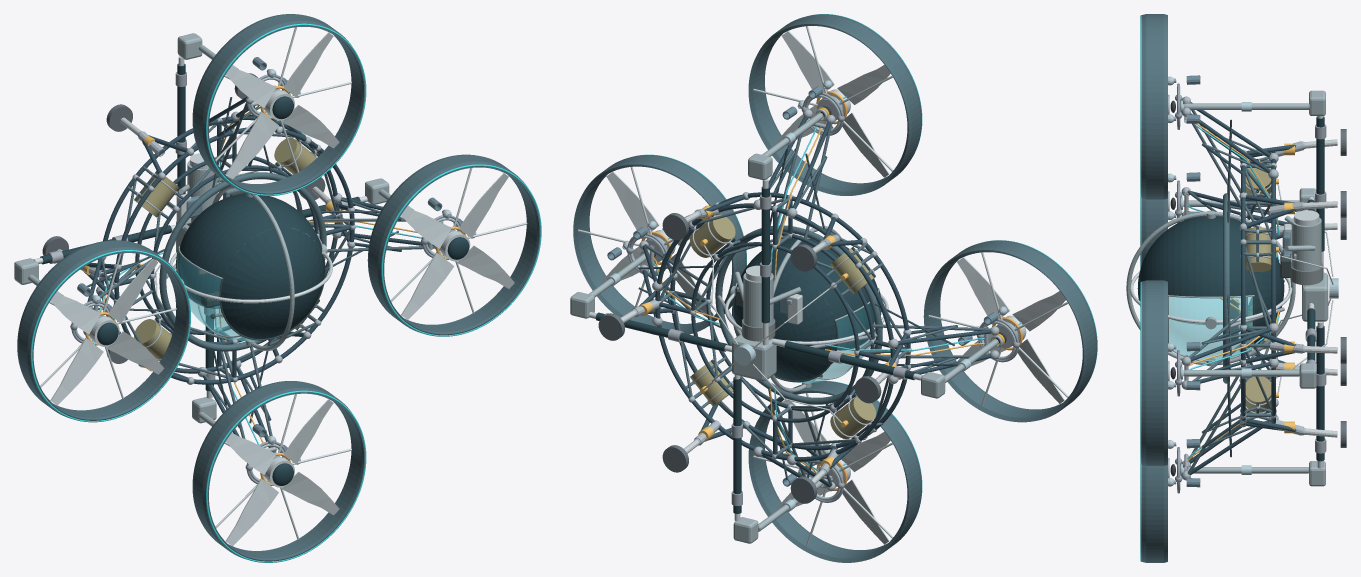
The model's file is airframe-r6.glb.
The picture shows the model from 3 angles, left to right: view 1: azimuth 30°, elevation 25°; view 2: azimuth 150°, elevation 25°; view 3: azimuth 270°, elevation 25°; orthographic projection.
Visible parts, largest first — view 1: P04 | CFRP upper spherical sandwich.001, P02 | F1 open annular duct.001, P02 | F3 open annular duct.001, P02 | F4 open annular duct.001, P02 | F2 open annular duct.001, P04 | Aft CFRP belt west.001, V4 P06 | UPPER outer compression ring.001, P06 | Carbon ring R=1.190m.001, P04 | Segmented laminated window 1.001, V4 P06 | LOWER outer load ring.001, P02 | F3 blade 3.001, P02 | F1 blade 3.001 (+28 smaller); view 2: P02 | F3 open annular duct.001, P02 | F2 open annular duct.001, P02 | F4 open annular duct.001, P02 | F1 open annular duct.001, P04 | CFRP lower spherical sandwich.001, V4 P06 | LOWER outer load ring.001, V4 P06 | UPPER outer compression ring.001, P06 | Carbon ring R=1.190m.001, V4 P06 | LOWER inner pressure ring.001, P04 | Aft CFRP belt west.001, V4 P06 | UPPER inner load ring.001, P03 | Four way reduction gearbox.001 (+20 smaller); view 3: P02 | F1 open annular duct.001, P02 | F2 open annular duct.001, P04 | Aft CFRP belt east.001, P04 | Segmented laminated window 3.001, P02 | F4 open annular duct.001, P05 | Outer pitch ring YZ.001, P01 | M250 C30P class turboshaft schematic.001, P04 | Segmented laminated window 2.001, P04 | Segmented laminated window 1.001, P04 | CFRP upper spherical sandwich.001, P04 | CFRP lower spherical sandwich.001, P02 | F3 open annular duct.001 (+28 smaller).
Boxes of the visible parts, bbox=[...] form: P04 | CFRP upper spherical sandwich.001: bbox=[221, 227, 324, 338]; P02 | F1 open annular duct.001: bbox=[367, 154, 540, 335]; P02 | F3 open annular duct.001: bbox=[17, 240, 189, 420]; P02 | F4 open annular duct.001: bbox=[192, 381, 364, 561]; P02 | F2 open annular duct.001: bbox=[192, 14, 364, 194]; P04 | Aft CFRP belt west.001: bbox=[179, 195, 272, 277]; V4 P06 | UPPER outer compression ring.001: bbox=[114, 127, 354, 384]; P06 | Carbon ring R=1.190m.001: bbox=[159, 172, 326, 351]; P04 | Segmented laminated window 1.001: bbox=[177, 252, 238, 335]; V4 P06 | LOWER outer load ring.001: bbox=[99, 116, 339, 373]; P02 | F3 blade 3.001: bbox=[50, 338, 103, 405]; P02 | F1 blade 3.001: bbox=[401, 252, 454, 319]; P02 | F3 open annular duct.001: bbox=[923, 240, 1097, 422]; P02 | F2 open annular duct.001: bbox=[748, 14, 921, 195]; P02 | F4 open annular duct.001: bbox=[748, 381, 921, 562]; P02 | F1 open annular duct.001: bbox=[573, 155, 746, 334]; P04 | CFRP lower spherical sandwich.001: bbox=[733, 269, 836, 380]; V4 P06 | LOWER outer load ring.001: bbox=[655, 203, 895, 461]; V4 P06 | UPPER outer compression ring.001: bbox=[670, 192, 910, 450]; P06 | Carbon ring R=1.190m.001: bbox=[715, 225, 882, 404]; V4 P06 | LOWER inner pressure ring.001: bbox=[691, 242, 859, 422]; P04 | Aft CFRP belt west.001: bbox=[785, 239, 877, 319]; V4 P06 | UPPER inner load ring.001: bbox=[706, 231, 874, 411]; P03 | Four way reduction gearbox.001: bbox=[732, 333, 776, 381]; P02 | F1 open annular duct.001: bbox=[1141, 280, 1167, 465]; P02 | F2 open annular duct.001: bbox=[1141, 14, 1167, 199]; P04 | Aft CFRP belt east.001: bbox=[1168, 222, 1253, 296]; P04 | Segmented laminated window 3.001: bbox=[1169, 297, 1252, 359]; P02 | F4 open annular duct.001: bbox=[1141, 465, 1167, 562]; P05 | Outer pitch ring YZ.001: bbox=[1126, 211, 1295, 365]; P01 | M250 C30P class turboshaft schematic.001: bbox=[1291, 217, 1321, 271]; P04 | Segmented laminated window 2.001: bbox=[1169, 319, 1251, 359]; P04 | Segmented laminated window 1.001: bbox=[1169, 297, 1251, 319]; P04 | CFRP upper spherical sandwich.001: bbox=[1137, 229, 1168, 306]; P04 | CFRP lower spherical sandwich.001: bbox=[1253, 257, 1284, 343]; P02 | F3 open annular duct.001: bbox=[1141, 198, 1167, 264].
Size of the model in its own units: 7.61 by 7.61 by 2.86.
